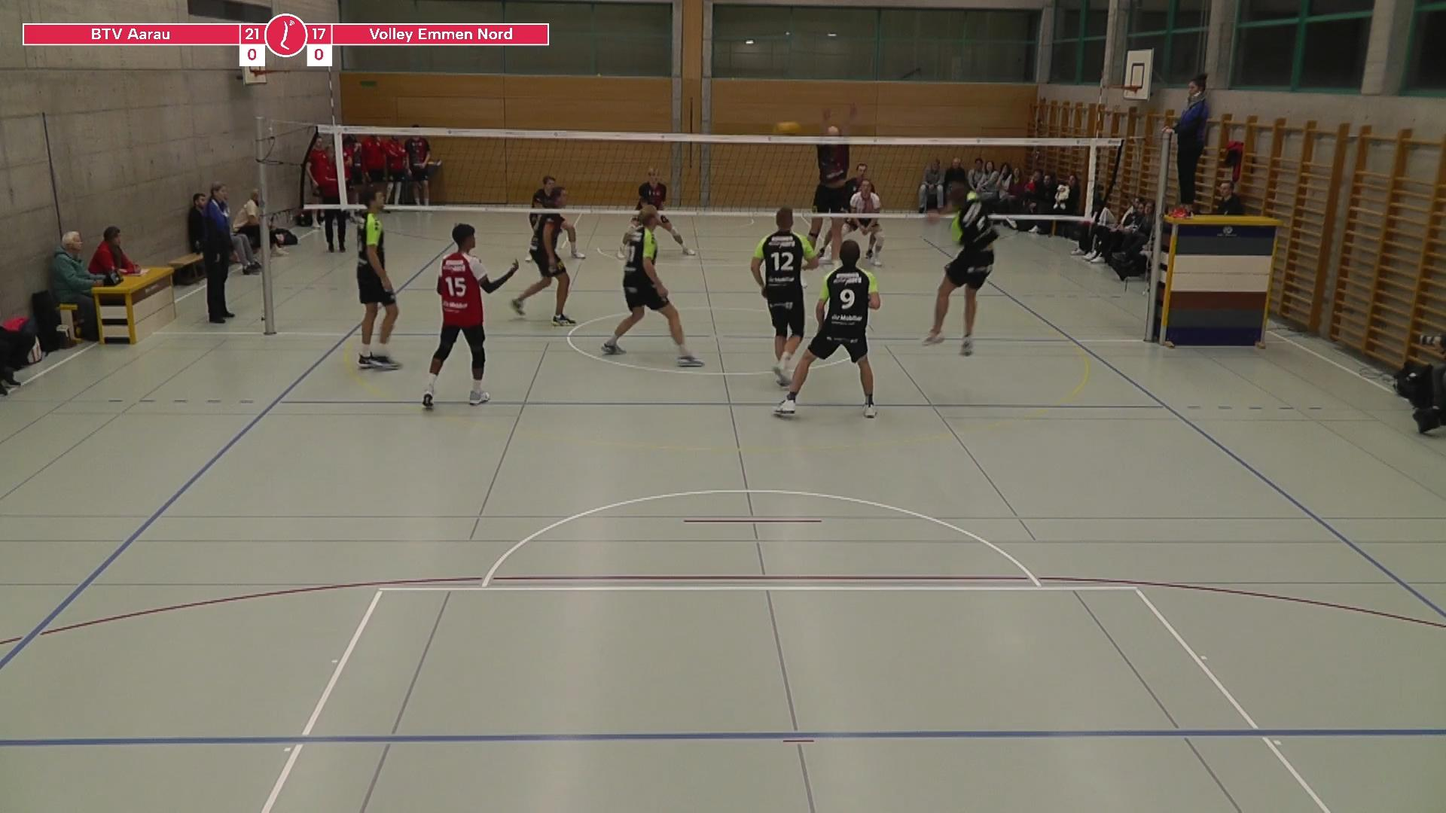Attack: (921, 170, 1003, 360)
Block: (791, 100, 862, 275)
Player: (775, 241, 880, 418), (422, 224, 517, 409), (602, 206, 703, 367), (751, 208, 818, 385), (357, 184, 399, 369), (511, 212, 575, 326), (848, 178, 883, 266), (636, 168, 667, 212), (561, 218, 585, 259)
ball: (772, 113, 803, 140)
